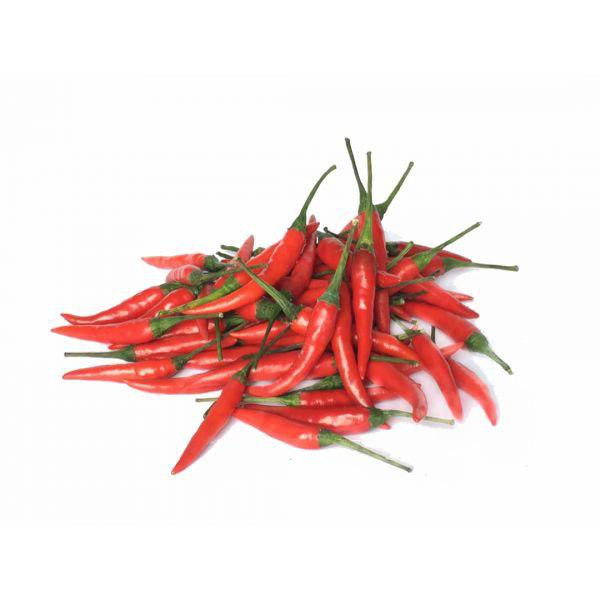lada merah: (184, 222, 316, 331), (255, 289, 341, 402), (169, 364, 253, 476), (401, 327, 473, 428), (212, 402, 353, 451), (53, 284, 180, 331), (48, 313, 173, 349), (65, 356, 187, 391), (354, 240, 383, 380), (395, 274, 482, 320), (129, 242, 217, 277), (152, 259, 204, 284)
